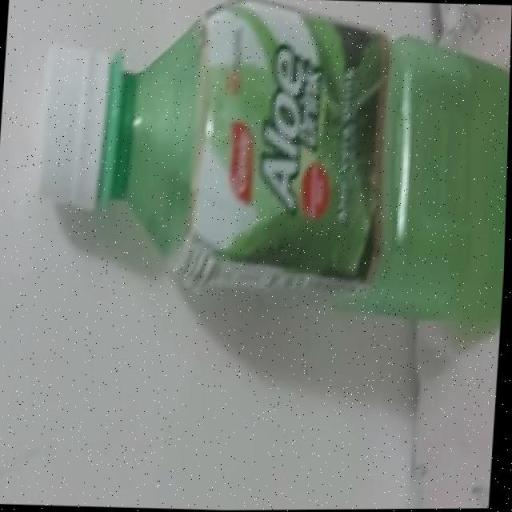plastic: (11, 0, 512, 334)
